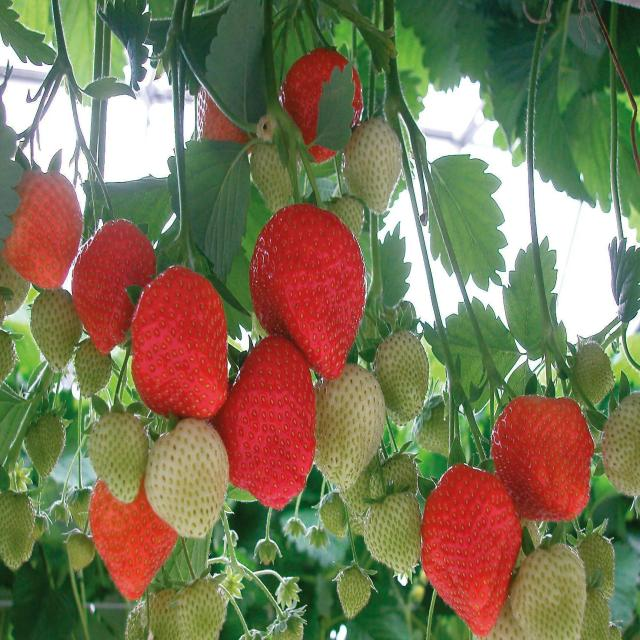Ripe Strawberry: (262, 203, 366, 339), (144, 266, 226, 416), (426, 474, 499, 631), (238, 348, 306, 502), (496, 399, 590, 509), (280, 44, 364, 166), (5, 158, 81, 292), (86, 216, 136, 352), (97, 512, 164, 605), (196, 92, 222, 141)
